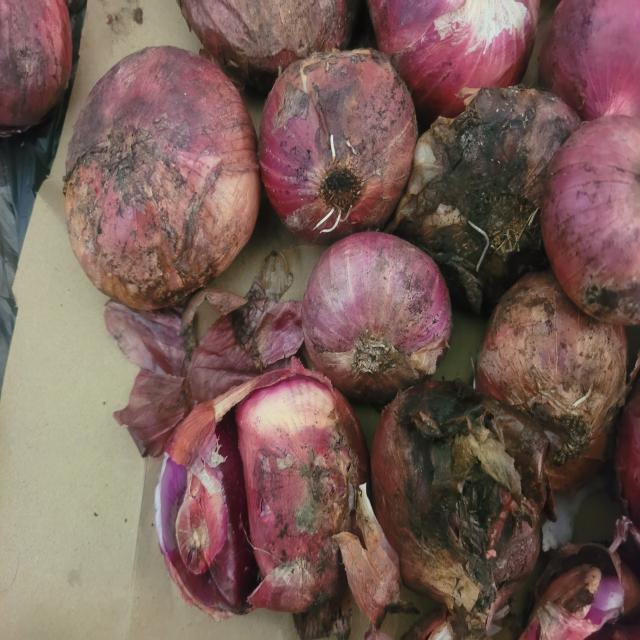mechanical_damage: (146, 338, 368, 628)
